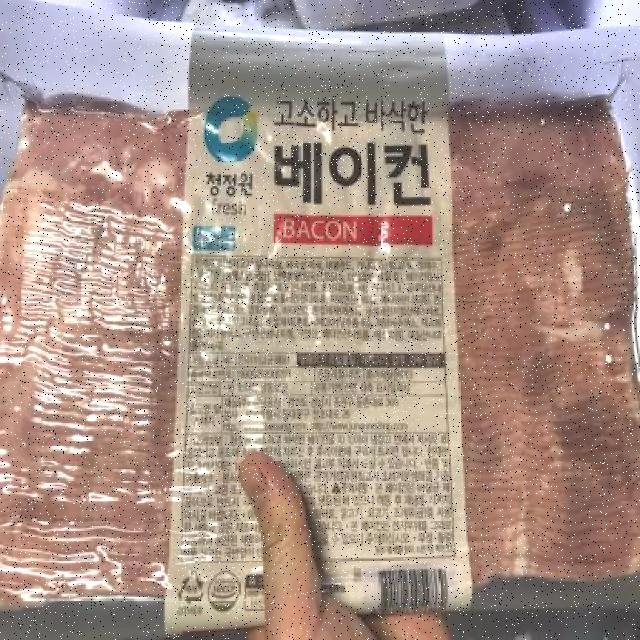Bacon: (4, 21, 640, 603)
